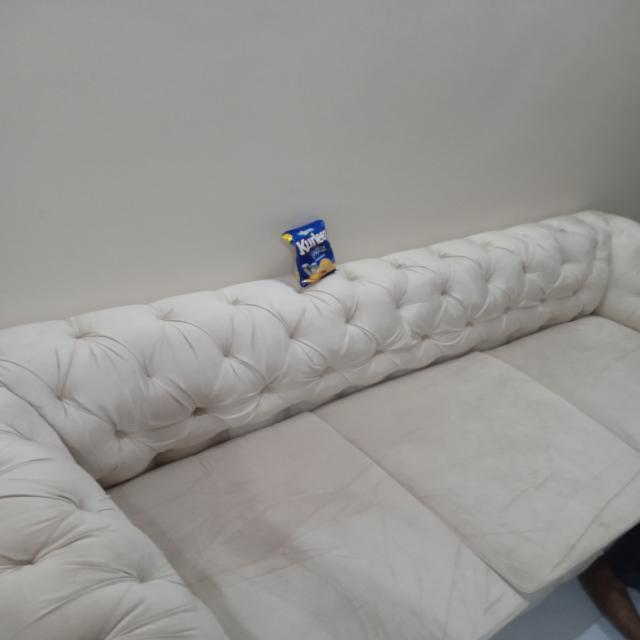Plastic: (279, 214, 353, 296)
